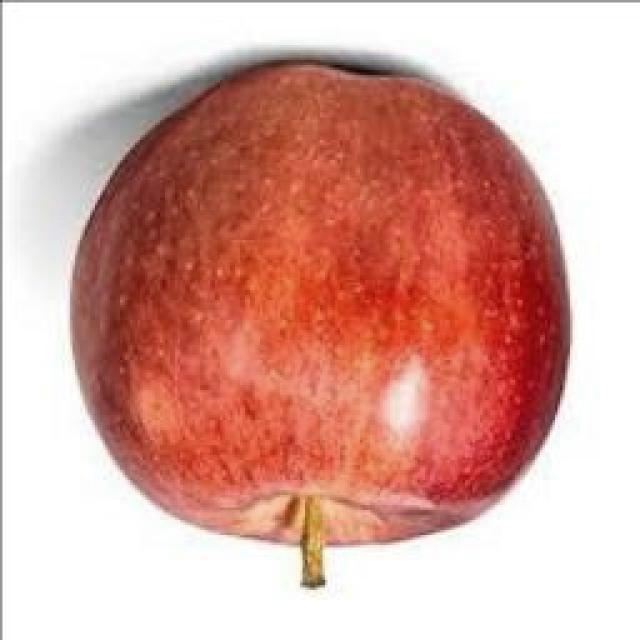Apple: (72, 61, 569, 544)
